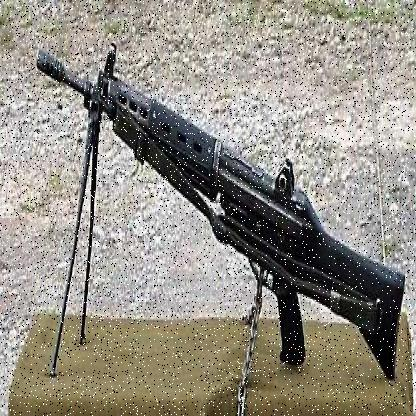rifle: (34, 38, 410, 385)
